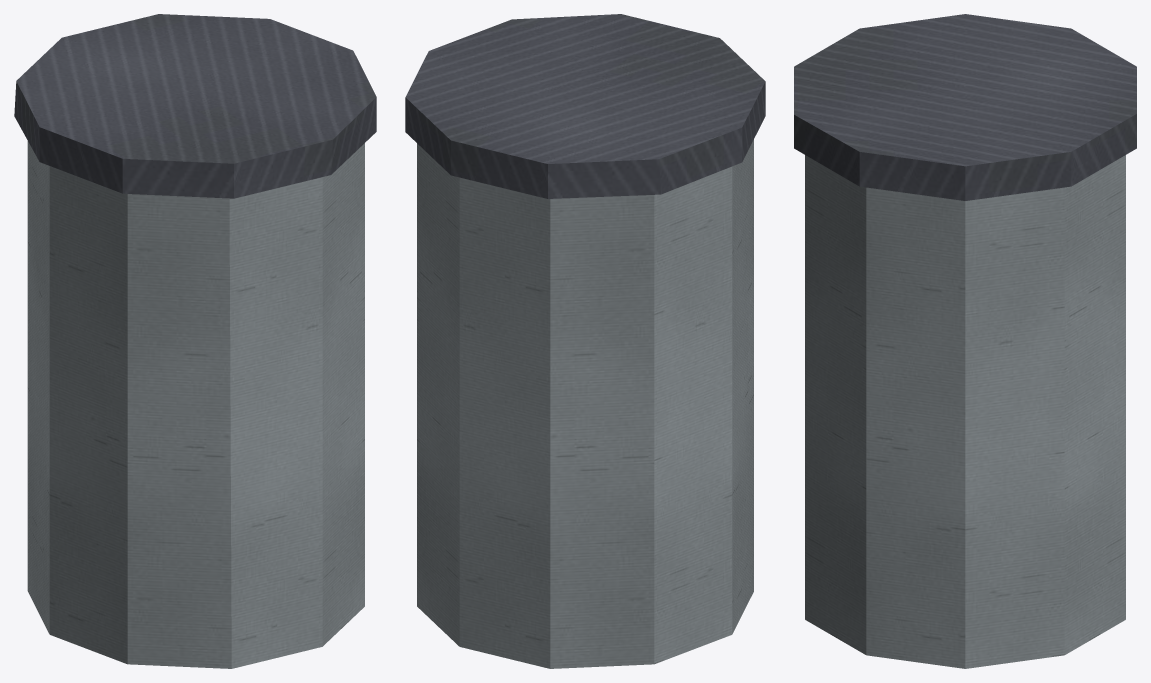
File: trashcan_v4.glb
3 views of the same model, side by side, from view 1: azimuth 30°, elevation 25°; view 2: azimuth 150°, elevation 25°; view 3: azimuth 270°, elevation 25° (orthographic).
Visible parts, largest first — view 1: Variant_trashcan_4; view 2: Variant_trashcan_4; view 3: Variant_trashcan_4.
Part boxes in pixels (box(x1,y1,x2,y2)): Variant_trashcan_4: box(14, 14, 376, 668); Variant_trashcan_4: box(405, 14, 765, 668); Variant_trashcan_4: box(794, 14, 1136, 668).
Size of the model in its own units: 0.47 by 0.73 by 0.447.
Materials: 2 (2 with a texture image).
